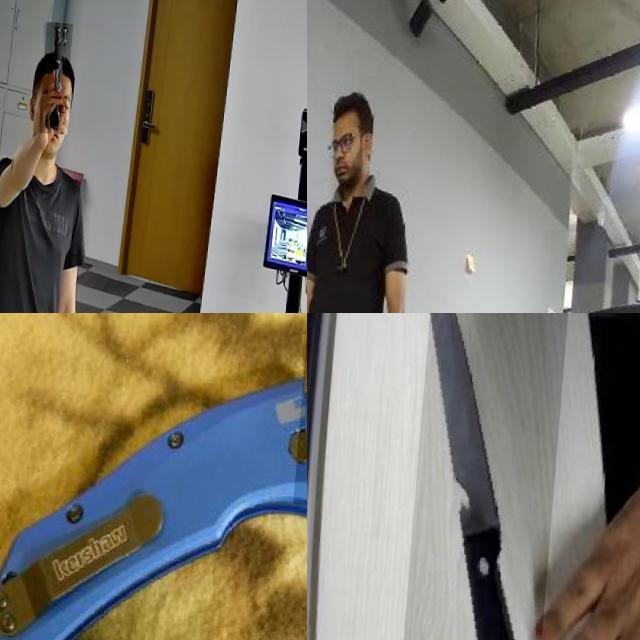-: (398, 313, 572, 640)
gun-knife-thesis - v11 Yolov5 augmented: (42, 15, 75, 128)
